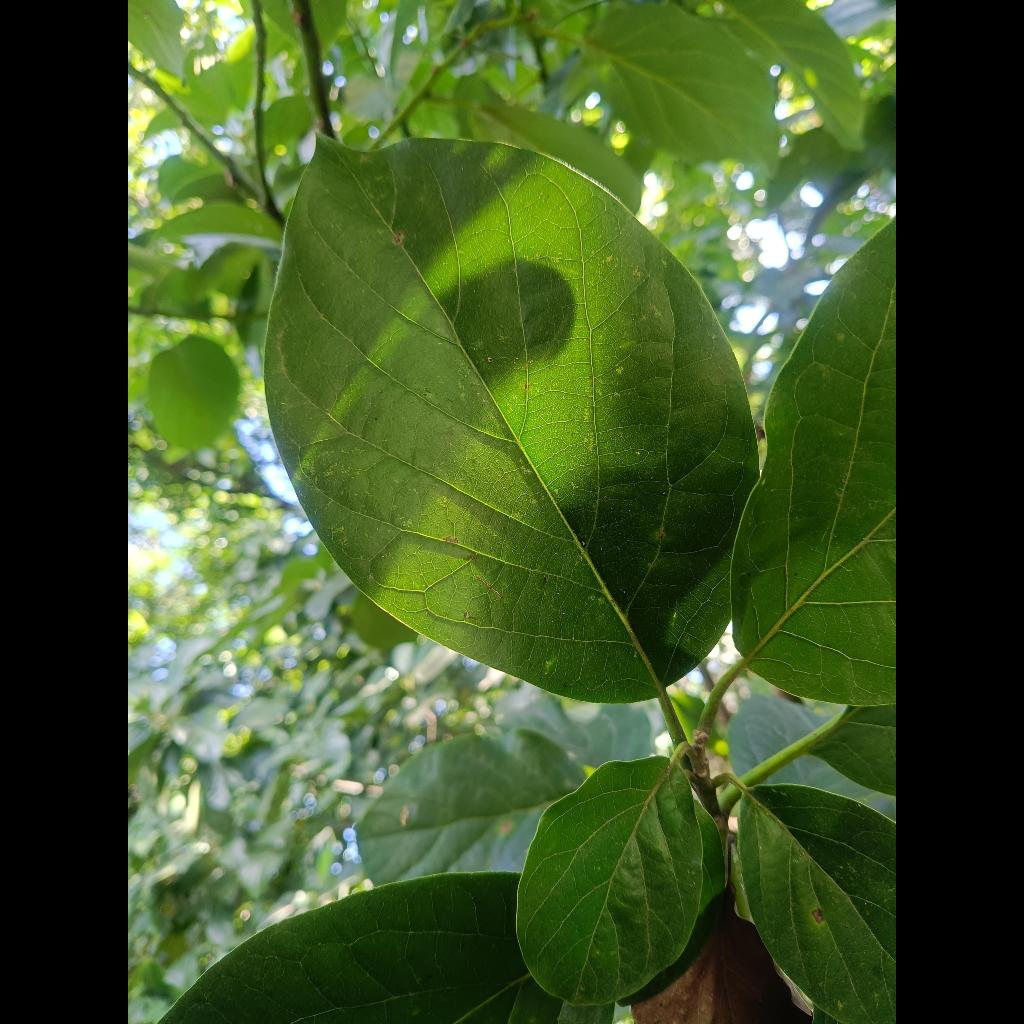Healthy: (266, 139, 757, 702)
